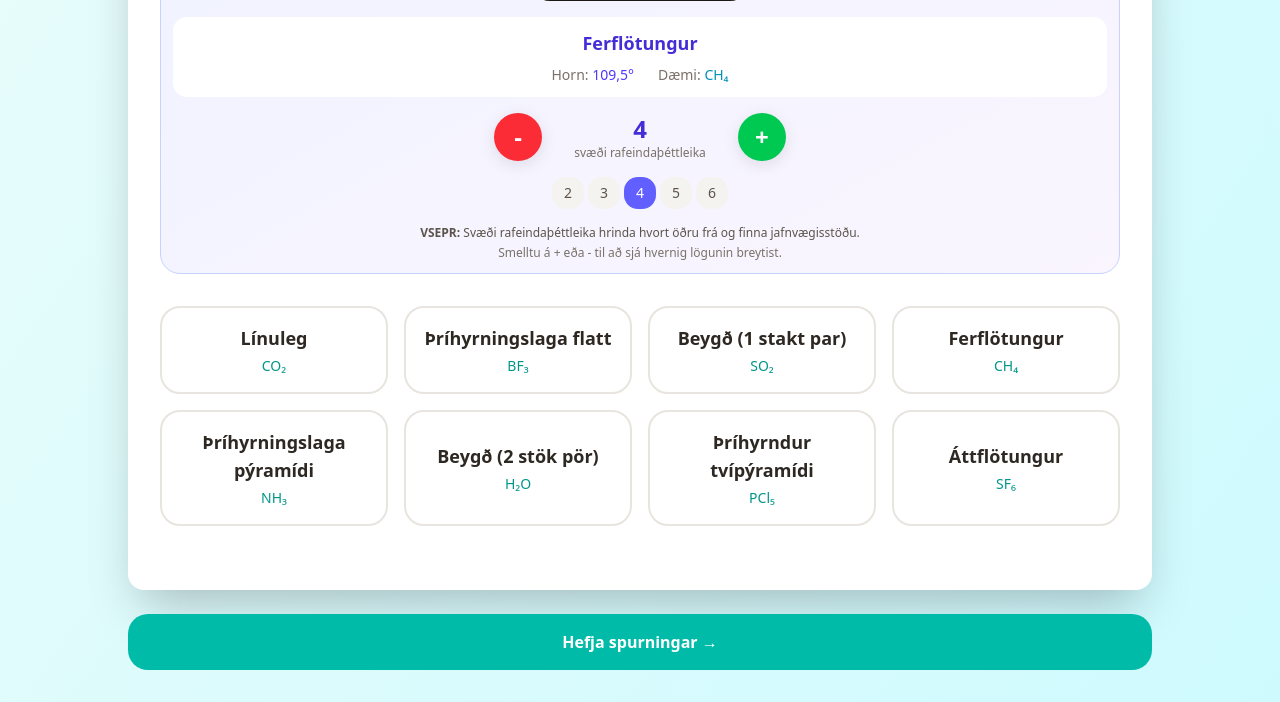
it: Stig 1, explore › elsewhere keeps the widgets stacked and the grid of buttons
(page scrolled)
What coordinates should you click on to do the following:
click the button "Línuleg CO₂"
I would click on:
 (274, 350)
Its box is [160,306,388,394].
(page scrolled)
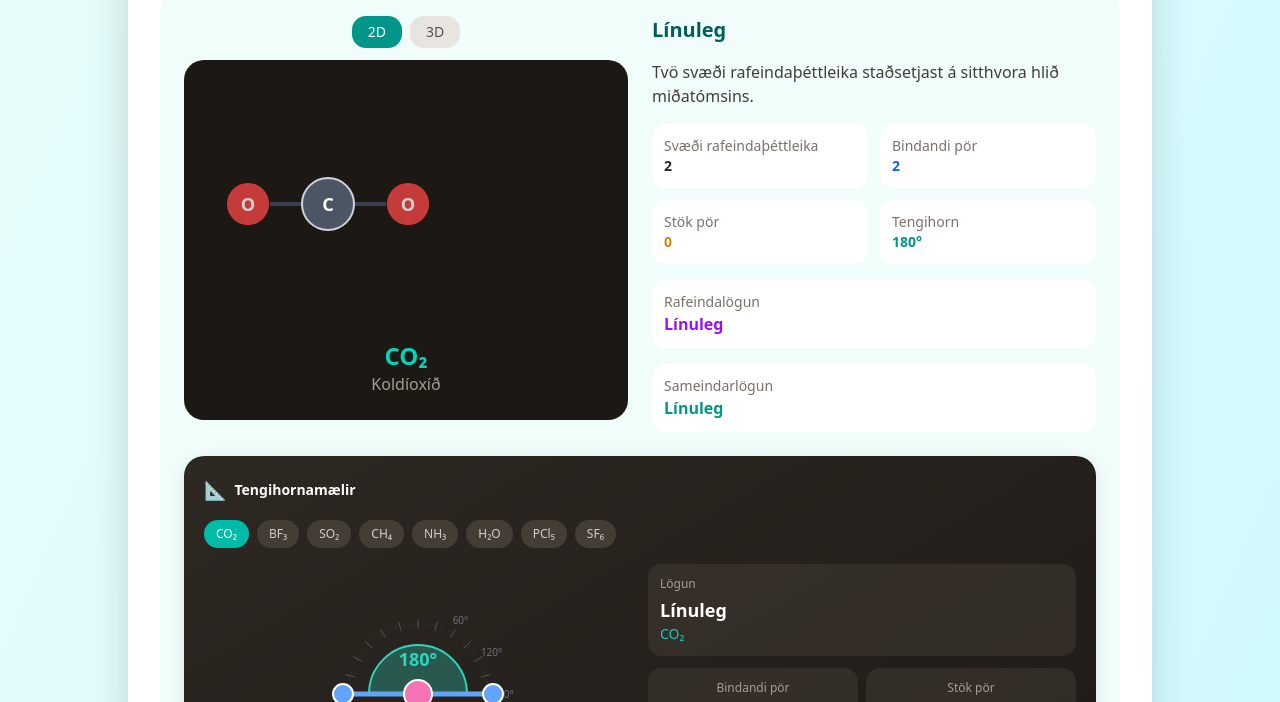
Check: the text "Rafeindalögun" is shown, box [664,292,760,311]
